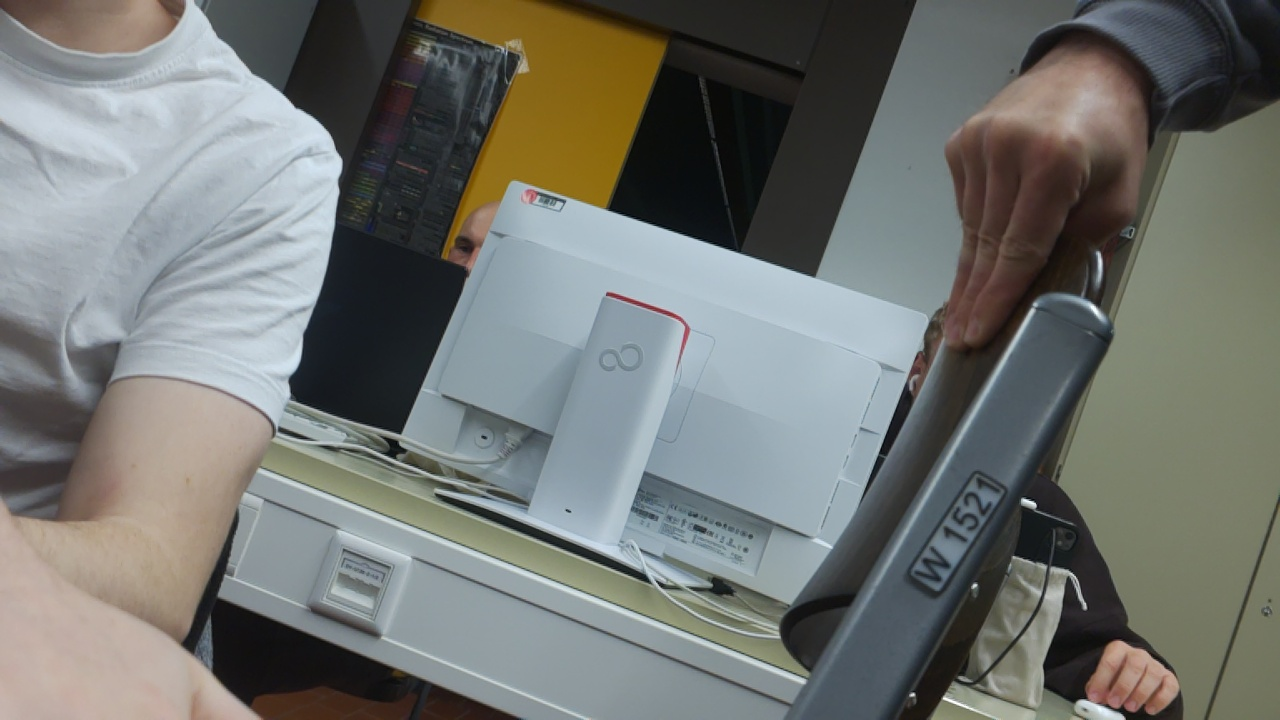license_plate: (899, 456, 1013, 611)
